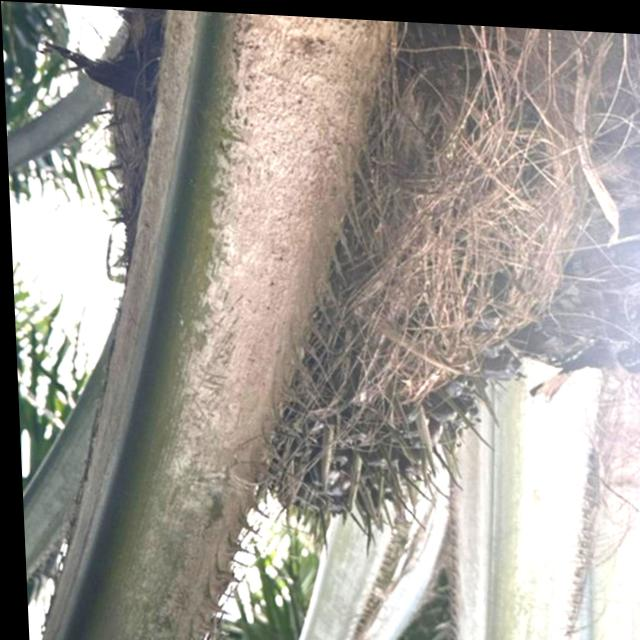almost: (240, 63, 588, 582)
